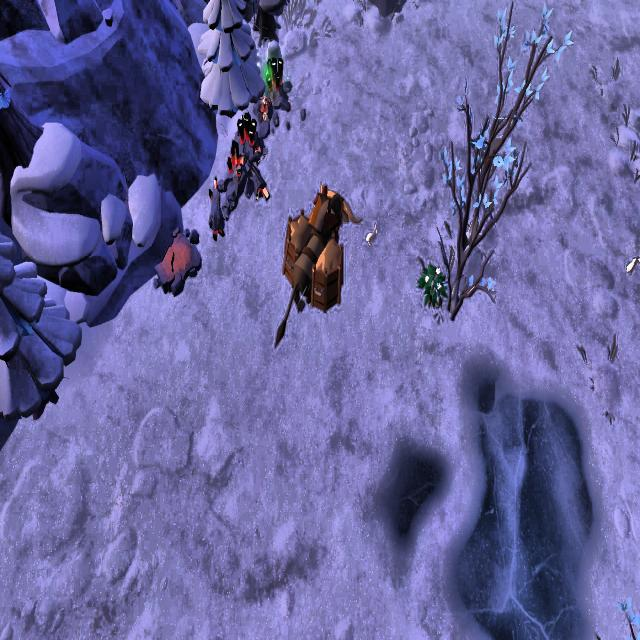fiber_t3: (416, 256, 448, 312)
ore_t5: (264, 54, 284, 94), (237, 106, 258, 144)
